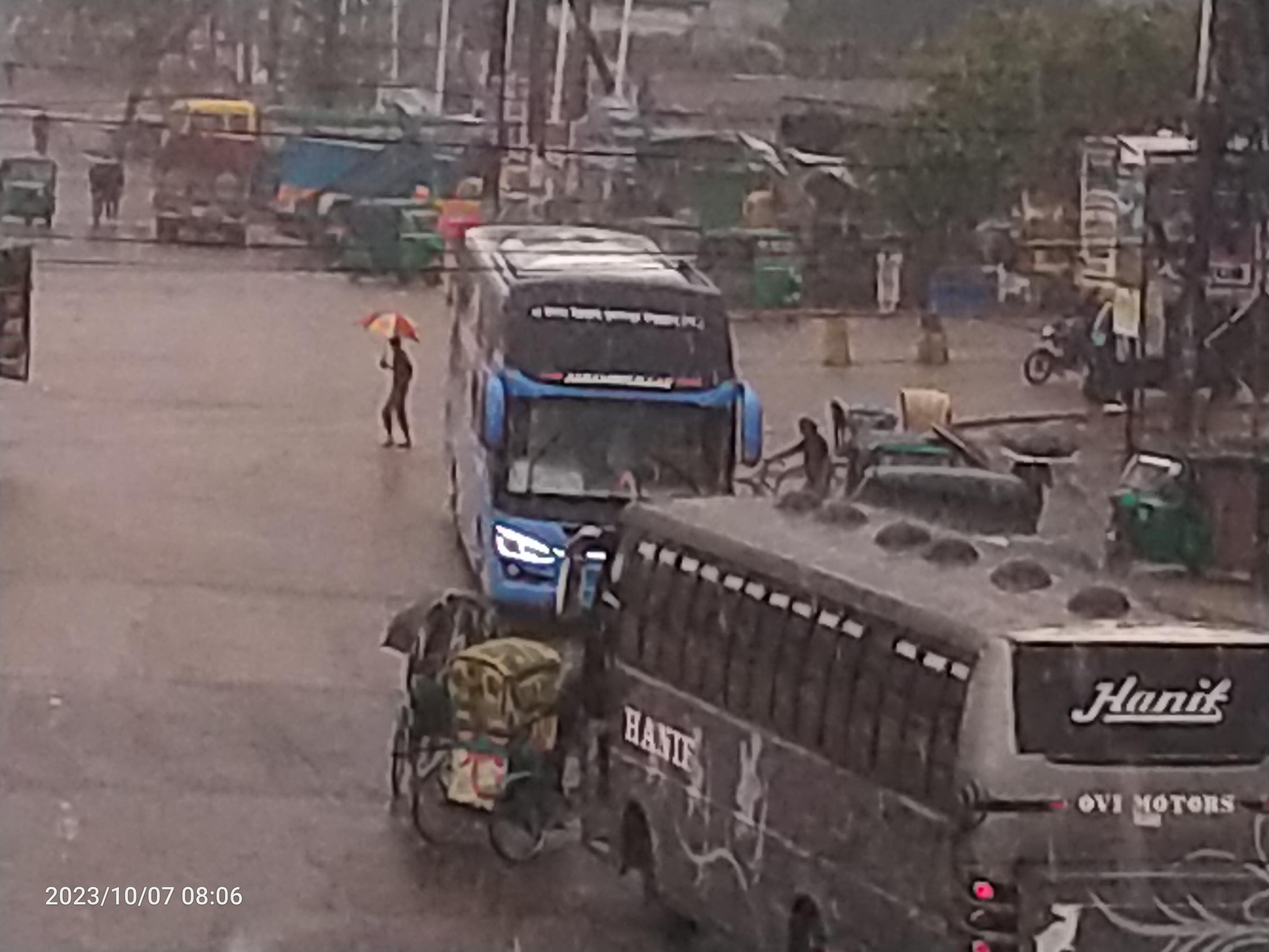Bus: (559, 473, 1269, 952), (406, 195, 793, 613)
Car: (415, 613, 601, 924)
Truck: (136, 80, 278, 270)
